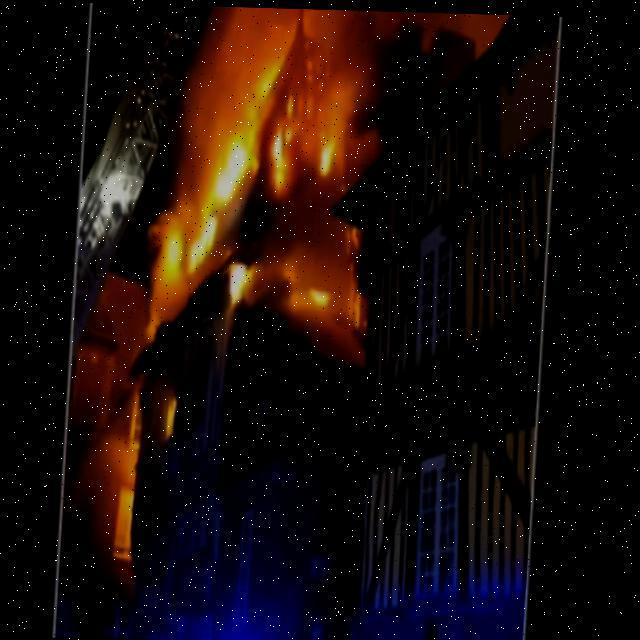Fire: (136, 4, 422, 390)
